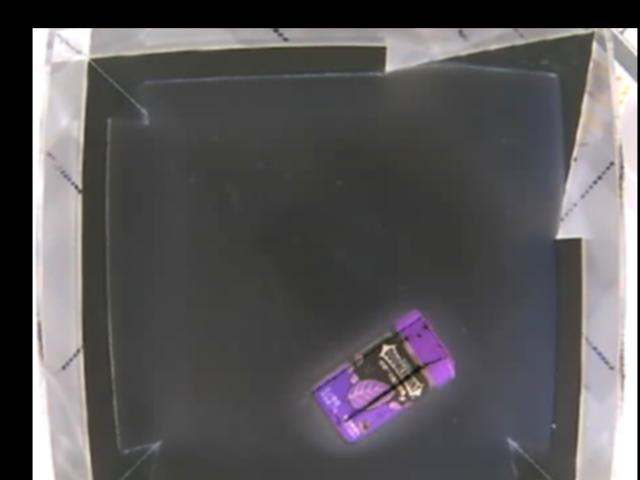Bottle: (307, 308, 456, 446)
